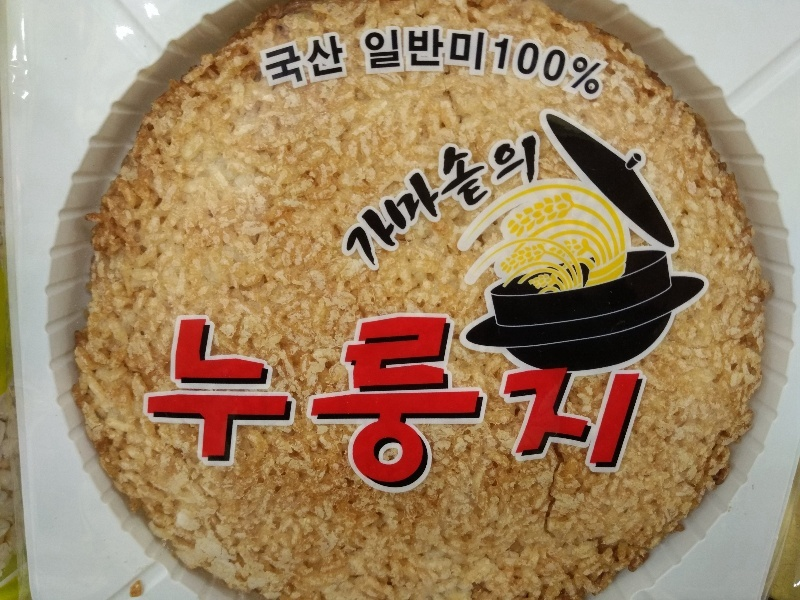text: (337, 77, 352, 271), (353, 77, 368, 271), (369, 77, 384, 271), (385, 77, 400, 271), (401, 77, 416, 271), (417, 77, 432, 271), (433, 77, 448, 271), (449, 77, 464, 271), (465, 77, 480, 271), (481, 77, 496, 271), (497, 77, 512, 271), (513, 77, 528, 271), (161, 307, 176, 495), (177, 307, 192, 495), (193, 307, 208, 495), (209, 307, 224, 495), (225, 307, 240, 495), (241, 307, 256, 495), (257, 307, 272, 495), (273, 307, 288, 495), (289, 307, 304, 495), (305, 307, 320, 495), (321, 307, 336, 495), (337, 307, 352, 495), (353, 307, 368, 495), (369, 307, 384, 495), (385, 307, 400, 495), (401, 307, 416, 495), (417, 307, 432, 495), (433, 307, 448, 495), (449, 307, 464, 495), (465, 307, 480, 495), (481, 307, 496, 495), (497, 307, 512, 495), (513, 307, 528, 495), (529, 307, 544, 495), (545, 307, 560, 495), (561, 307, 576, 495), (577, 307, 592, 495), (593, 307, 608, 495), (609, 307, 624, 495), (625, 307, 640, 495), (641, 307, 656, 495), (529, 77, 539, 271), (328, 77, 336, 271), (657, 307, 665, 495), (497, 26, 512, 105), (513, 26, 528, 105), (529, 26, 544, 105), (545, 26, 560, 105), (561, 26, 576, 105), (577, 26, 592, 105), (593, 26, 608, 105), (154, 307, 160, 495), (273, 30, 288, 94), (289, 30, 304, 94), (305, 30, 320, 94), (321, 30, 336, 94), (337, 30, 350, 94), (369, 23, 384, 75), (385, 23, 400, 75), (401, 23, 416, 75), (417, 23, 432, 75), (433, 23, 448, 75), (449, 23, 464, 75), (465, 23, 480, 75), (261, 30, 272, 94), (481, 23, 487, 75), (363, 23, 368, 75), (495, 26, 496, 105)
